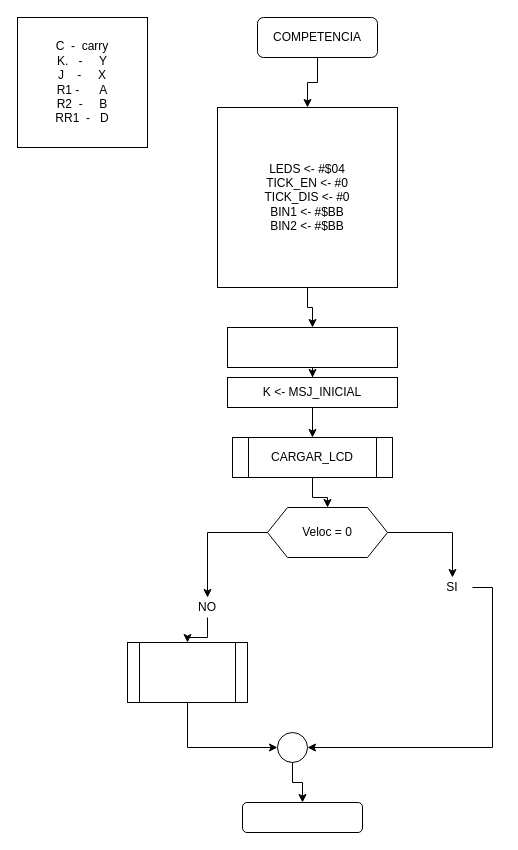
Image size: 518x850. Some labels were removed from this diagram. The shapes that lost their labels are listed below. From the top down, each one's centre as x and y in pixels, then its label:
At point (312, 347): "J <- MSJ_RUNMETER".
At point (187, 672): "PANT_CTRL".
At point (302, 817): "RETURN".
